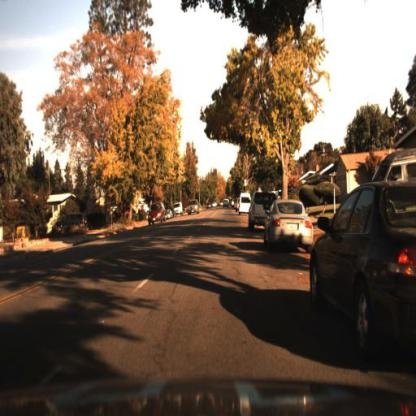car: (309, 182, 416, 360), (263, 189, 314, 257), (47, 208, 94, 238), (247, 189, 277, 233), (246, 189, 268, 235), (147, 200, 169, 226), (146, 199, 164, 226), (238, 190, 254, 217), (186, 196, 202, 220), (238, 193, 251, 218), (165, 205, 177, 221), (174, 202, 184, 219)
